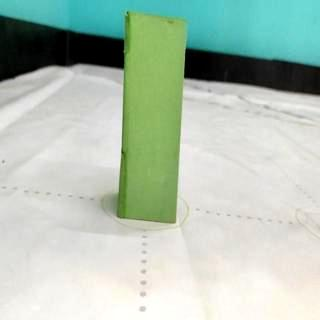greenbox: (116, 8, 190, 224)
